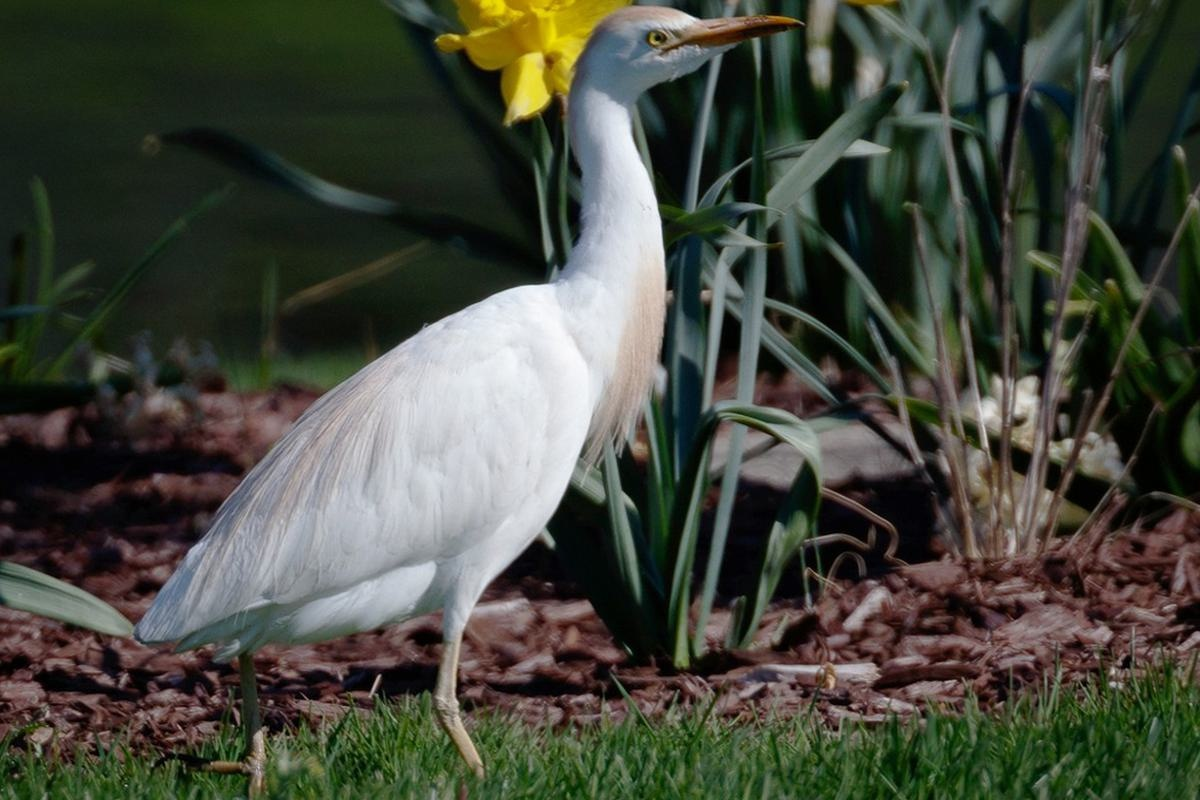egret: (95, 8, 804, 789)
